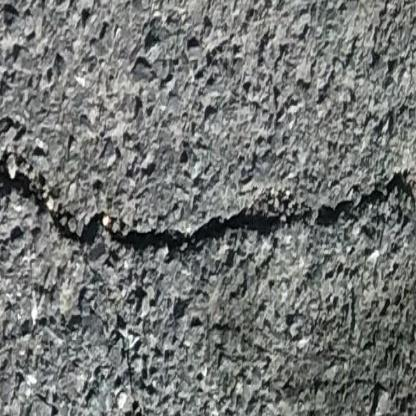Cracks: (0, 142, 416, 269)
